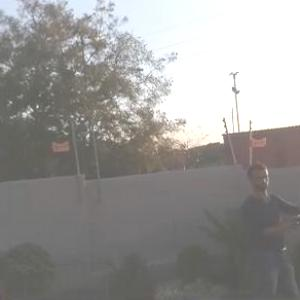follow: (238, 158, 300, 299)
